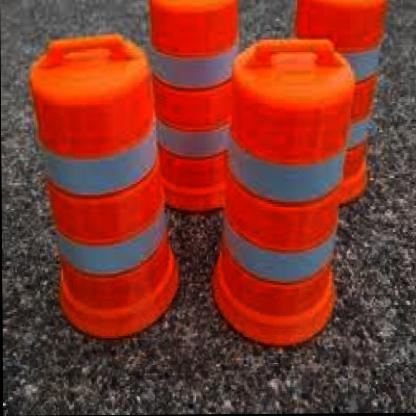obstacle: (208, 39, 359, 354), (31, 37, 177, 341)
